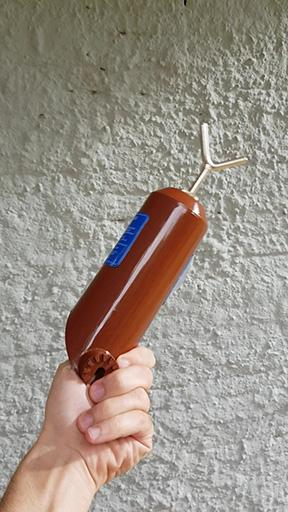Detector_Tensao_Contato: (64, 122, 250, 383)
